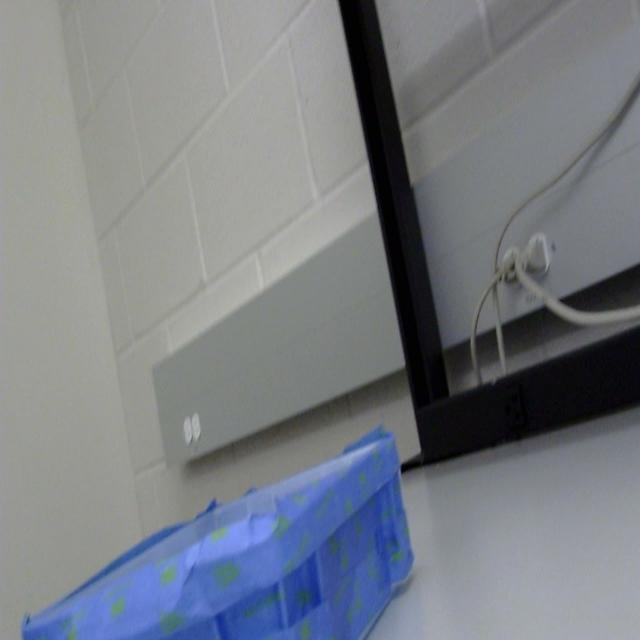bucket: (18, 418, 417, 640)
